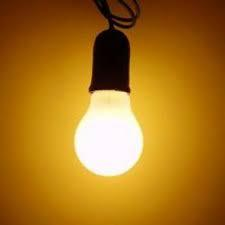Lamp: (74, 24, 150, 179)
